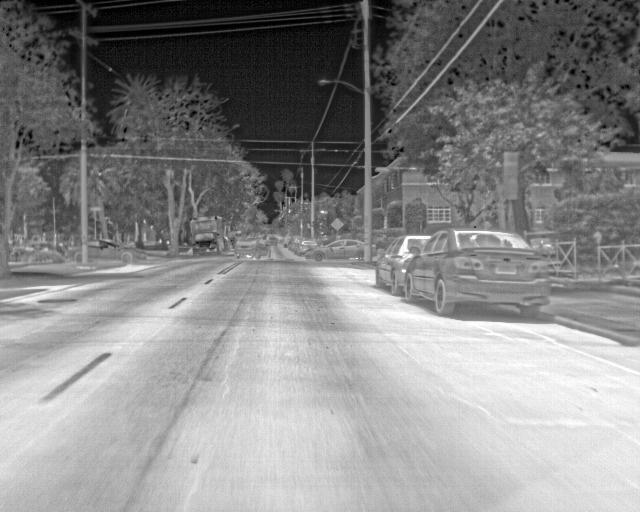bicycle: (403, 228, 549, 317), (375, 233, 432, 295), (86, 237, 150, 268), (306, 237, 363, 261), (234, 232, 270, 259), (298, 238, 319, 255), (289, 235, 305, 253), (282, 234, 295, 249)
